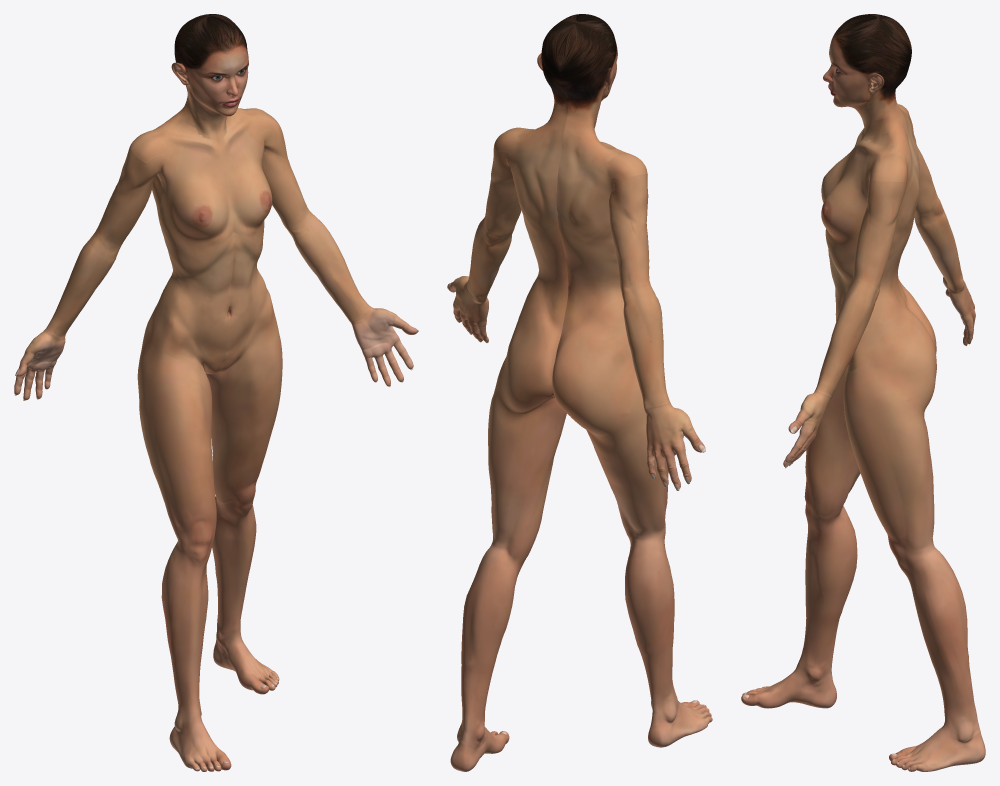
Rendered from acu-female.glb.
3 views of the same model, side by side, from view 1: azimuth 30°, elevation 25°; view 2: azimuth 150°, elevation 25°; view 3: azimuth 270°, elevation 25° (orthographic). The views are drawn at different scales.
Parts seen in each view (by area): view 1: jss_Leg_R:Layer1, jss_Leg_L:Layer1, jss_Torso_R:Layer1, jss_Arm_L:Layer1, jss_Arm_R:Layer1, jss_Chest_R:Layer2, jss_Torso_L:Layer1, jss_Head_R:Layer1, jss_Chest_L:Layer2, jss_Head_L:Layer1; view 2: jss_Torso_R:Layer1, jss_Leg_L:Layer1, jss_Leg_R:Layer1, jss_Torso_L:Layer1, jss_Arm_R:Layer1, jss_Arm_L:Layer1, jss_Head_R:Layer1, jss_Head_L:Layer1; view 3: jss_Leg_L:Layer1, jss_Leg_R:Layer1, jss_Torso_L:Layer1, jss_Arm_L:Layer1, jss_Head_L:Layer1, jss_Arm_R:Layer1, jss_Chest_L:Layer2, jss_Torso_R:Layer1, jss_Chest_R:Layer2.
Part boxes in pixels (left/top/right/bottom): jss_Leg_R:Layer1: left=137, top=344, right=231, bottom=771; jss_Leg_L:Layer1: left=206, top=327, right=282, bottom=694; jss_Torso_R:Layer1: left=130, top=111, right=234, bottom=374; jss_Arm_L:Layer1: left=262, top=125, right=418, bottom=387; jss_Arm_R:Layer1: left=14, top=146, right=163, bottom=400; jss_Chest_R:Layer2: left=159, top=151, right=233, bottom=259; jss_Torso_L:Layer1: left=217, top=108, right=279, bottom=372; jss_Head_R:Layer1: left=171, top=15, right=236, bottom=139; jss_Chest_L:Layer2: left=222, top=134, right=272, bottom=245; jss_Head_L:Layer1: left=204, top=14, right=248, bottom=139; jss_Torso_R:Layer1: left=552, top=128, right=647, bottom=436; jss_Leg_L:Layer1: left=450, top=360, right=566, bottom=771; jss_Leg_R:Layer1: left=586, top=377, right=712, bottom=747; jss_Torso_L:Layer1: left=494, top=124, right=568, bottom=413; jss_Arm_R:Layer1: left=609, top=173, right=705, bottom=490; jss_Arm_L:Layer1: left=447, top=144, right=521, bottom=342; jss_Head_R:Layer1: left=560, top=14, right=617, bottom=137; jss_Head_L:Layer1: left=537, top=14, right=589, bottom=129; jss_Leg_L:Layer1: left=843, top=363, right=985, bottom=771; jss_Leg_R:Layer1: left=741, top=365, right=860, bottom=708; jss_Torso_L:Layer1: left=825, top=114, right=936, bottom=411; jss_Arm_L:Layer1: left=783, top=172, right=907, bottom=468; jss_Head_L:Layer1: left=823, top=17, right=911, bottom=140; jss_Arm_R:Layer1: left=910, top=118, right=975, bottom=345; jss_Chest_L:Layer2: left=821, top=156, right=868, bottom=261; jss_Torso_R:Layer1: left=835, top=104, right=936, bottom=353; jss_Chest_R:Layer2: left=821, top=148, right=853, bottom=202.
Bounding box in the file's own units: 84.67 × 174 × 54.01.
24 materials, 22 textured.
